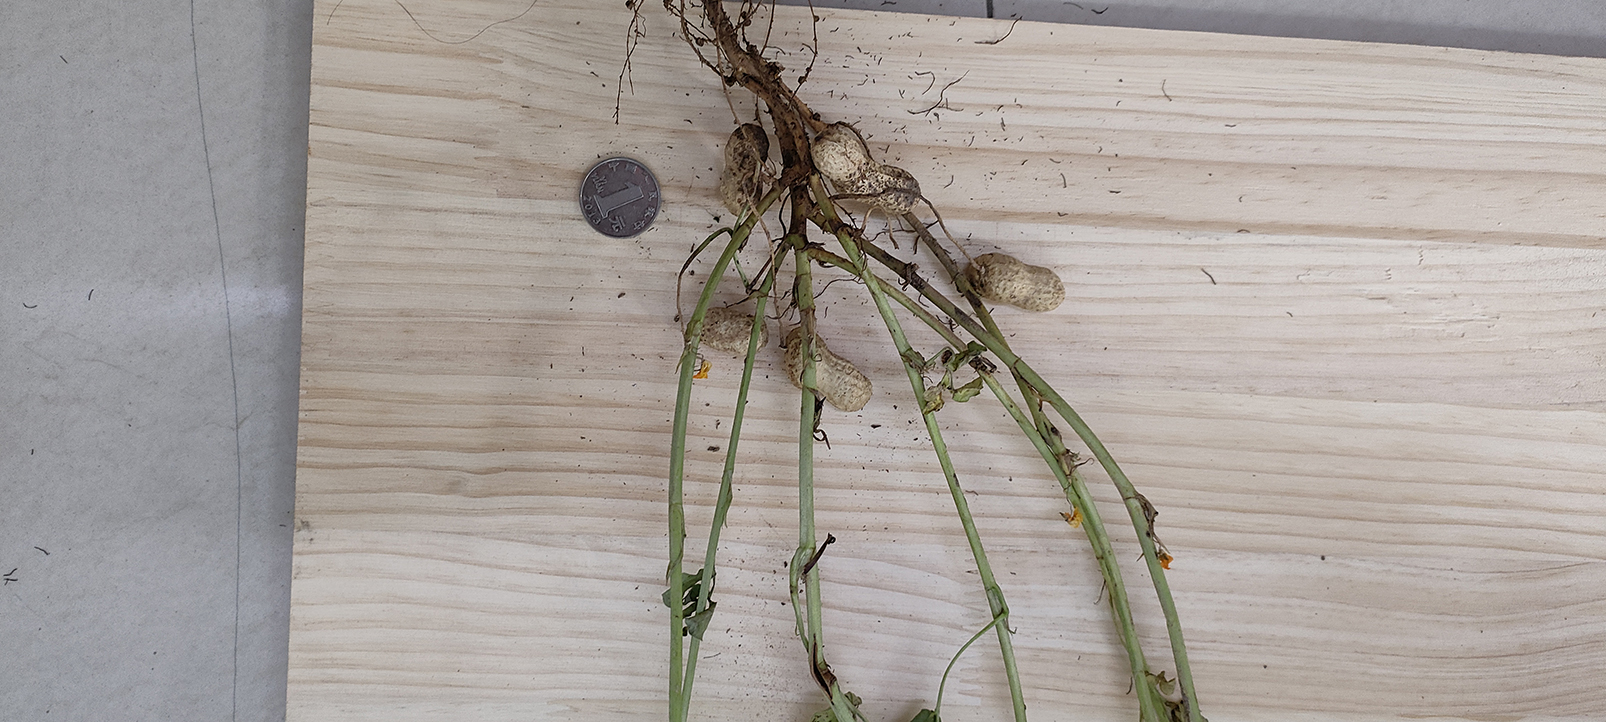h: (811, 120, 921, 216), (786, 329, 873, 412), (966, 251, 1067, 313)
l: (720, 121, 769, 216), (699, 309, 768, 355)
